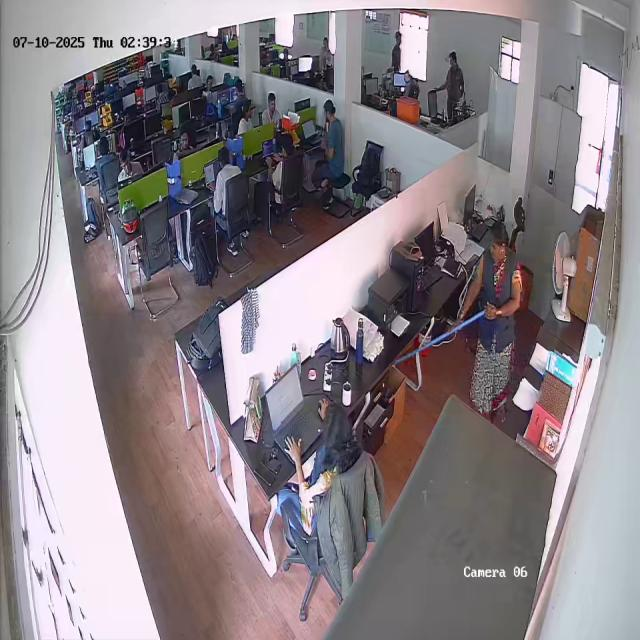person: (466, 221, 520, 424), (318, 100, 346, 180)
